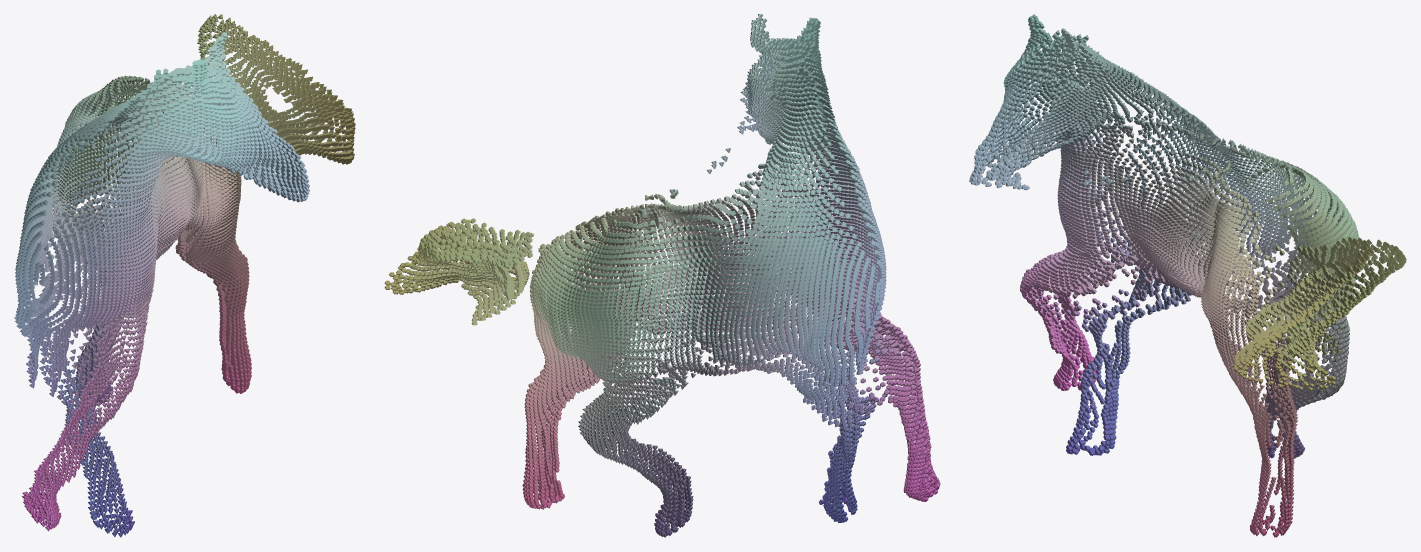
The model's file is 2010_005919_1_pcan.glb.
3 renders of one model, left to right at view 1: azimuth 30°, elevation 25°; view 2: azimuth 150°, elevation 25°; view 3: azimuth 270°, elevation 25°, orthographic. The views are drawn at different scales.
Parts seen in each view (by area): view 1: target; view 2: target; view 3: target.
Part boxes in pixels (left/top/right/bottom): target: left=14, top=14, right=355, bottom=537; target: left=384, top=14, right=940, bottom=537; target: left=969, top=14, right=1406, bottom=537.
Bounding box in the file's own units: 2.28 × 2.43 × 2.03.
